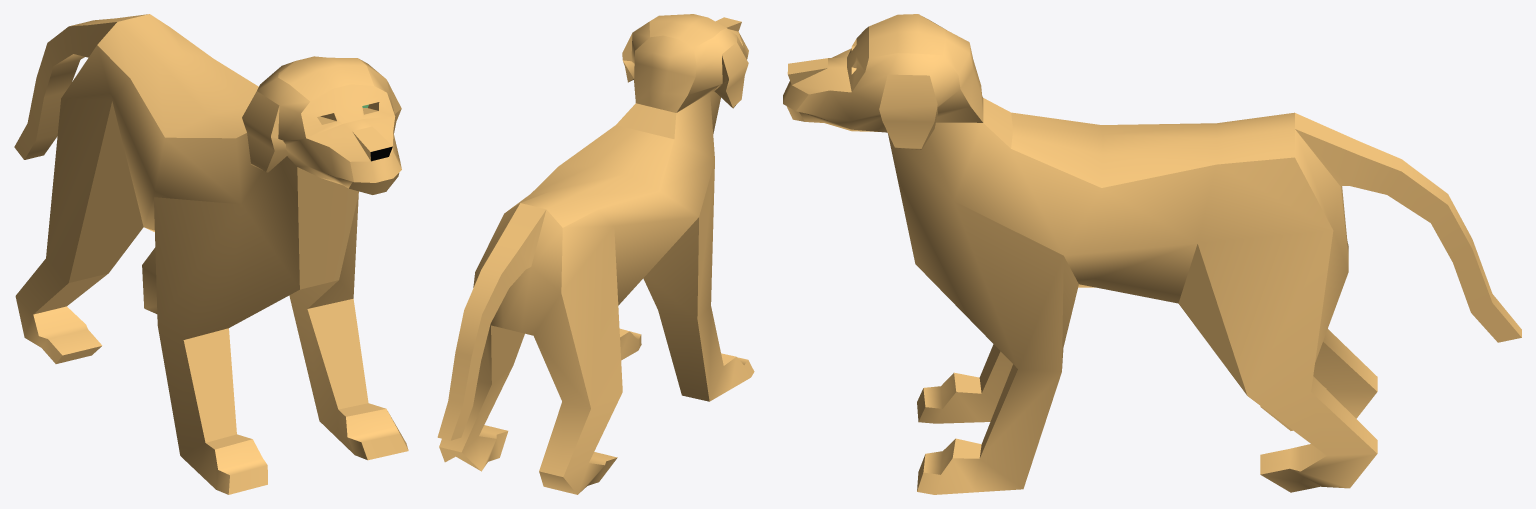
Rendered from Chien_Beige.glb.
The picture shows the model from 3 angles, left to right: view 1: azimuth 30°, elevation 25°; view 2: azimuth 150°, elevation 25°; view 3: azimuth 270°, elevation 25°; orthographic projection. The views are drawn at different scales.
Parts seen in each view (by area): view 1: Dog; view 2: Dog; view 3: Dog.
Part boxes in pixels (<box>): Dog: <box>14,14,408,494</box>; Dog: <box>437,14,754,494</box>; Dog: <box>783,14,1521,494</box>.
Bounding box in the file's own units: 1.68 × 3.53 × 5.54.
